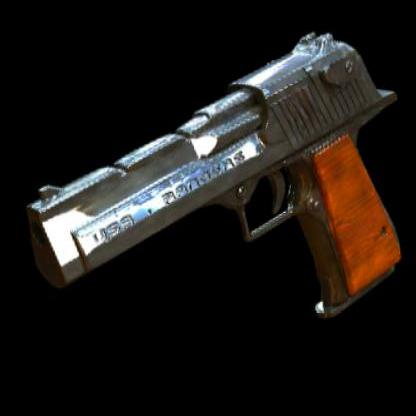pistol: (0, 10, 415, 392)
